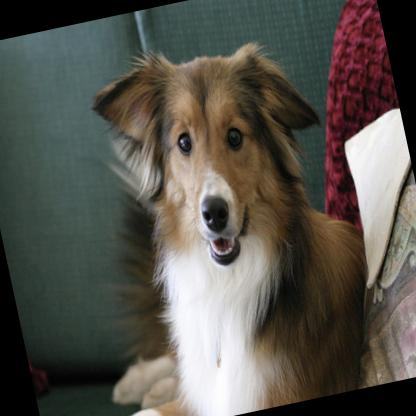Shetland_sheepdog: (0, 9, 397, 416)
